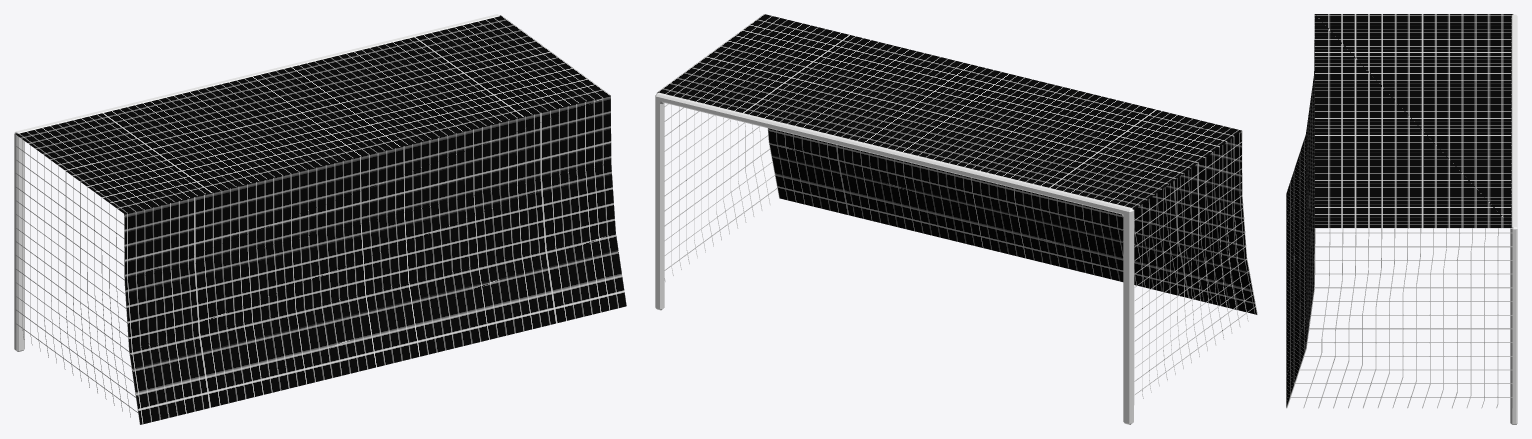
The model's file is Football_Goal.fbx.
3 renders of one model, left to right at view 1: azimuth 30°, elevation 25°; view 2: azimuth 150°, elevation 25°; view 3: azimuth 270°, elevation 25°, orthographic. The views are drawn at different scales.
Parts seen in each view (by area): view 1: pCube21, pCube36; view 2: pCube21, pCube36; view 3: pCube21, pCube36.
Boxes of the visible parts, x1=… form: pCube21: x1=14, y1=15, x2=626, y2=424; pCube36: x1=14, y1=14, x2=499, y2=351; pCube21: x1=656, y1=14, x2=1257, y2=404; pCube36: x1=655, y1=92, x2=1133, y2=424; pCube21: x1=1286, y1=14, x2=1513, y2=408; pCube36: x1=1510, y1=14, x2=1517, y2=424.
Bounding box in the file's own units: 426 × 183 × 194.
